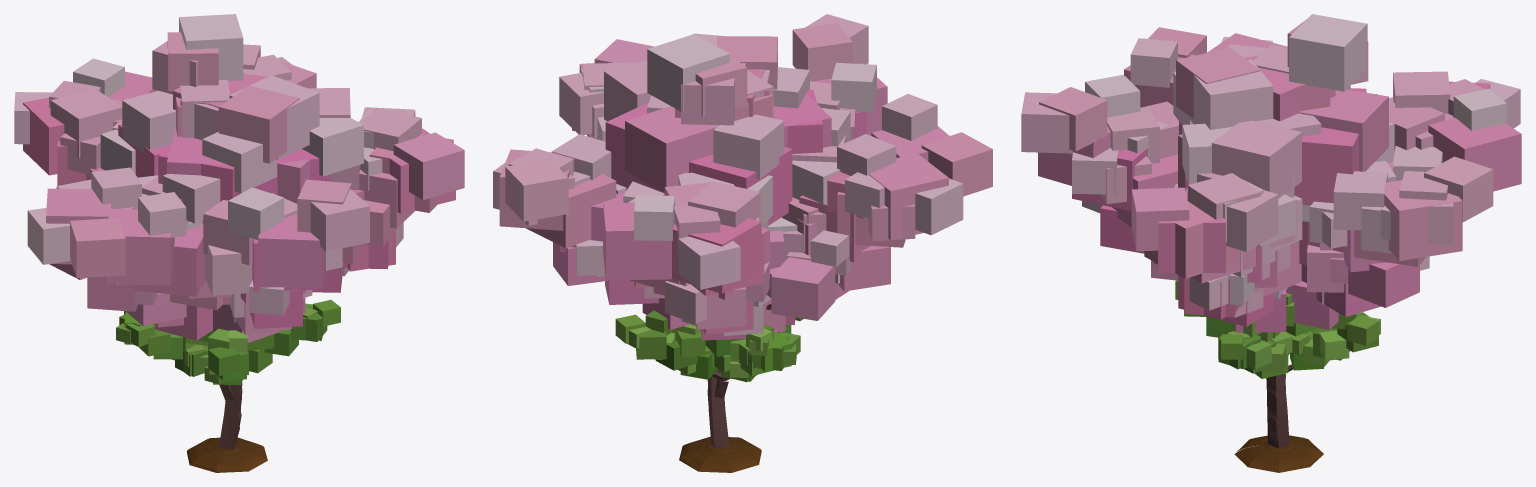
Rendered from candyblossom.glb.
3 views of the same model, side by side, from view 1: azimuth 30°, elevation 25°; view 2: azimuth 150°, elevation 25°; view 3: azimuth 270°, elevation 25° (orthographic). The views are drawn at different scales.
Visible parts, largest first — view 1: stage4_blossom, stage4_l1_blossom, stage3_blossom, stage2_foliage, stage2_l1_foliage, stage2_soil, stage3_l1_blossom, stage4_l1_bark; view 2: stage4_blossom, stage4_l1_blossom, stage3_blossom, stage2_foliage, stage3_l1_blossom, stage2_soil, stage2_l1_foliage, stage4_bark; view 3: stage4_blossom, stage4_l1_blossom, stage3_blossom, stage2_foliage, stage3_l1_blossom, stage2_soil, stage2_l1_foliage, stage4_bark.
Boxes of the visible parts, x1,y1,x2,y2 form: stage4_blossom: [14, 14, 464, 304]; stage4_l1_blossom: [70, 41, 455, 310]; stage3_blossom: [87, 230, 395, 342]; stage2_foliage: [119, 303, 322, 385]; stage2_l1_foliage: [116, 300, 340, 376]; stage2_soil: [186, 437, 267, 472]; stage3_l1_blossom: [49, 222, 403, 323]; stage4_l1_bark: [218, 385, 241, 449]; stage4_blossom: [493, 14, 963, 299]; stage4_l1_blossom: [572, 33, 992, 295]; stage3_blossom: [553, 238, 890, 340]; stage2_foliage: [615, 310, 803, 382]; stage3_l1_blossom: [763, 230, 848, 332]; stage2_soil: [679, 436, 761, 472]; stage2_l1_foliage: [722, 328, 796, 381]; stage4_bark: [707, 377, 727, 448]; stage4_blossom: [1021, 14, 1520, 293]; stage4_l1_blossom: [1124, 27, 1521, 296]; stage3_blossom: [1082, 201, 1429, 332]; stage2_foliage: [1175, 280, 1380, 373]; stage3_l1_blossom: [1178, 275, 1286, 332]; stage2_soil: [1234, 435, 1323, 472]; stage2_l1_foliage: [1218, 321, 1282, 378]; stage4_bark: [1266, 374, 1289, 448].
Size of the model in its own units: 2.8 by 2.79 by 2.96.
